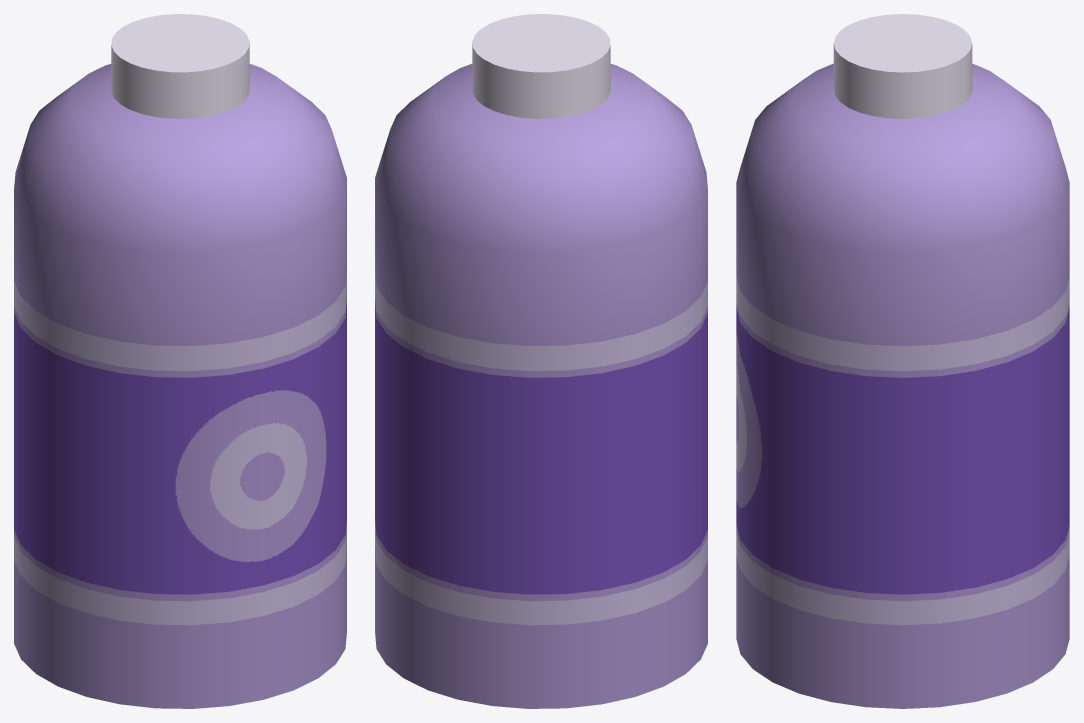
Rendered from Fabric_Softener.fbx.
3 views of the same model, side by side, from view 1: azimuth 30°, elevation 25°; view 2: azimuth 150°, elevation 25°; view 3: azimuth 270°, elevation 25° (orthographic).
Visible parts, largest first — view 1: Fabric_Softener; view 2: Fabric_Softener; view 3: Fabric_Softener.
Part boxes in pixels (box(x1,y1,x2,y2)): Fabric_Softener: box(14, 14, 346, 708); Fabric_Softener: box(375, 14, 707, 708); Fabric_Softener: box(736, 14, 1069, 708).
Bounding box in the file's own units: 0.13 × 0.26 × 0.13.
3 materials, 1 textured.
